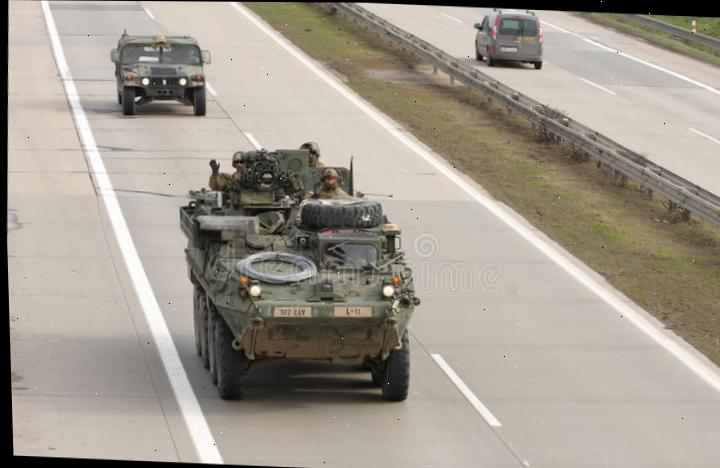armored_car: (168, 138, 430, 410), (106, 31, 212, 120)
